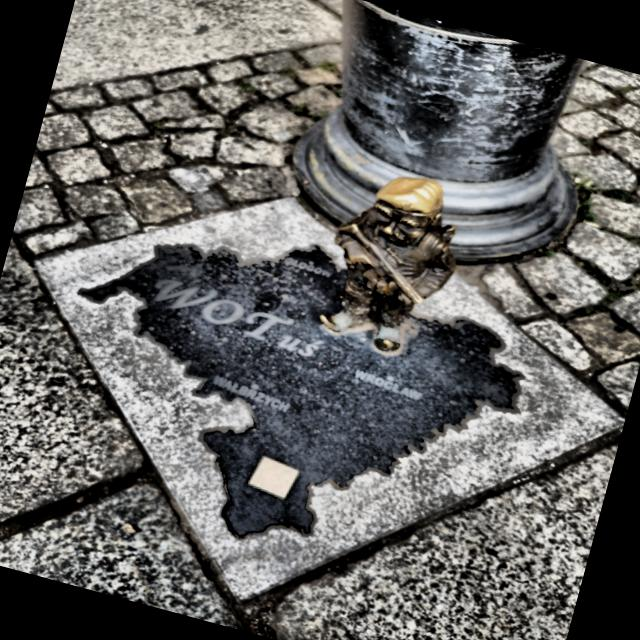WOTus: (319, 177, 455, 352)
